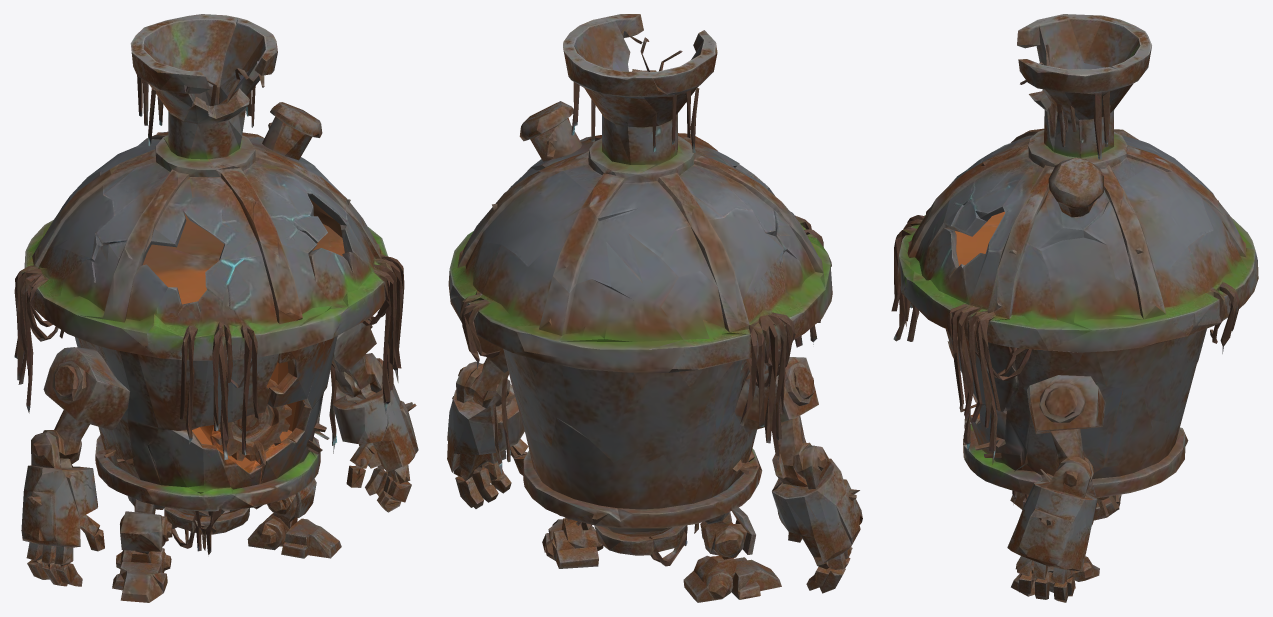
Rendered from bot-farm-wastes.glb.
The picture shows the model from 3 angles, left to right: view 1: azimuth 30°, elevation 25°; view 2: azimuth 150°, elevation 25°; view 3: azimuth 270°, elevation 25°; orthographic projection. The views are drawn at different scales.
Size of the model in its own units: 1.51 by 1.9 by 1.27.
1 material, 1 textured.
